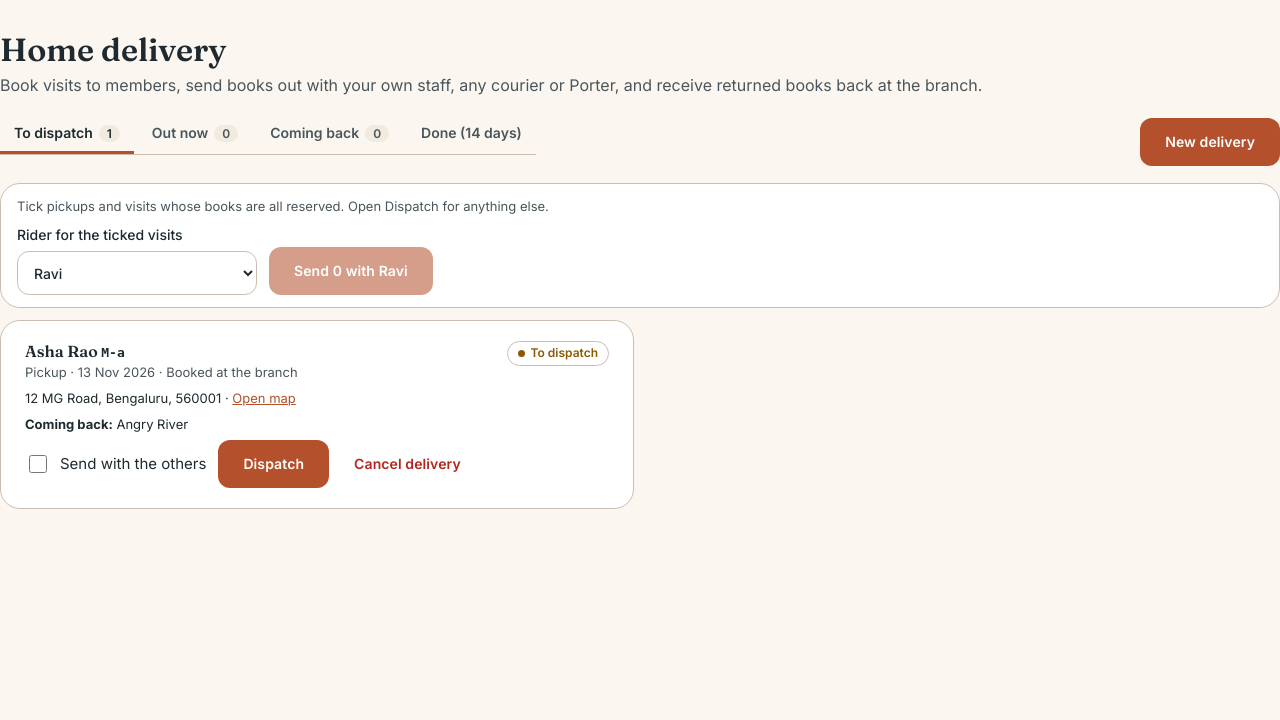
Scenario: dispatching › opens a pickup at once with no read, starts with the rider used last, and keeps the tab when the last visit goes
Click the button "Dispatch" at (274, 464), box top-left (218, 440), bottom-right (329, 488)
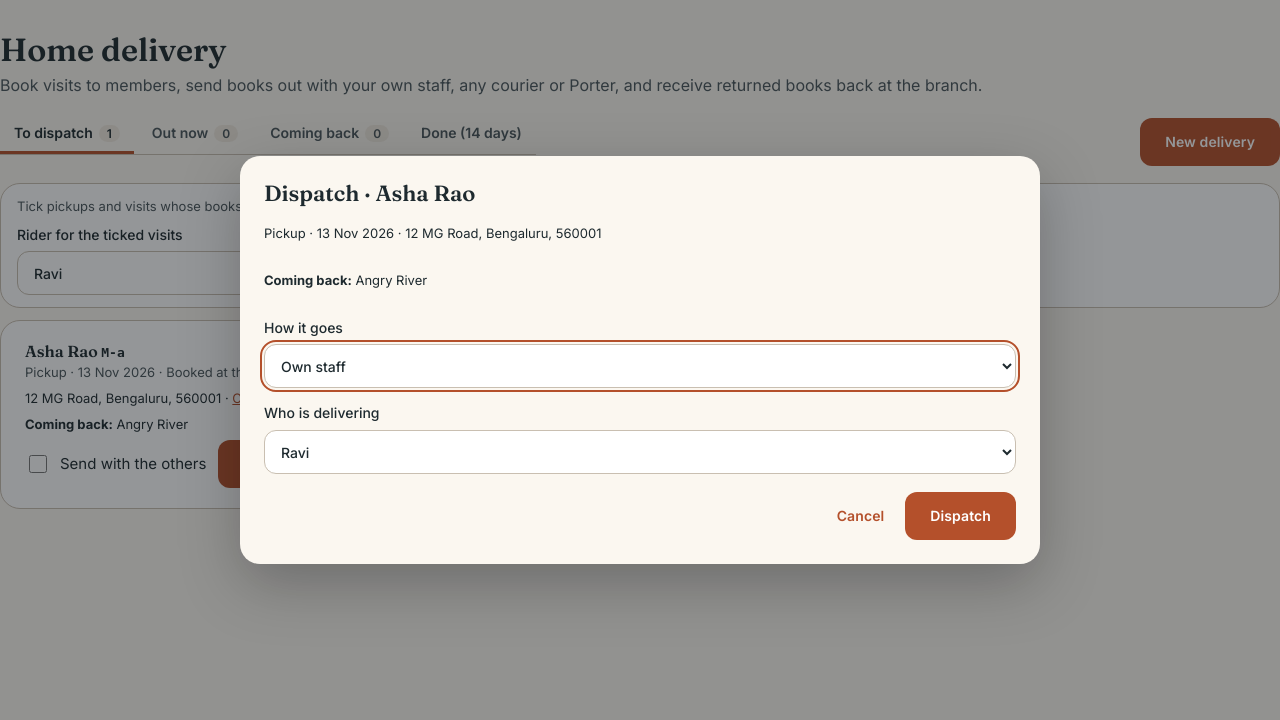
Now the dropdown labelled "Who is delivering" shows "Ravi"
Now the button "Dispatch" is enabled, box top-left (905, 492), bottom-right (1016, 540)
Select "Asha" in the dropdown labelled "Who is delivering" at (640, 452), box top-left (264, 430), bottom-right (1016, 474)
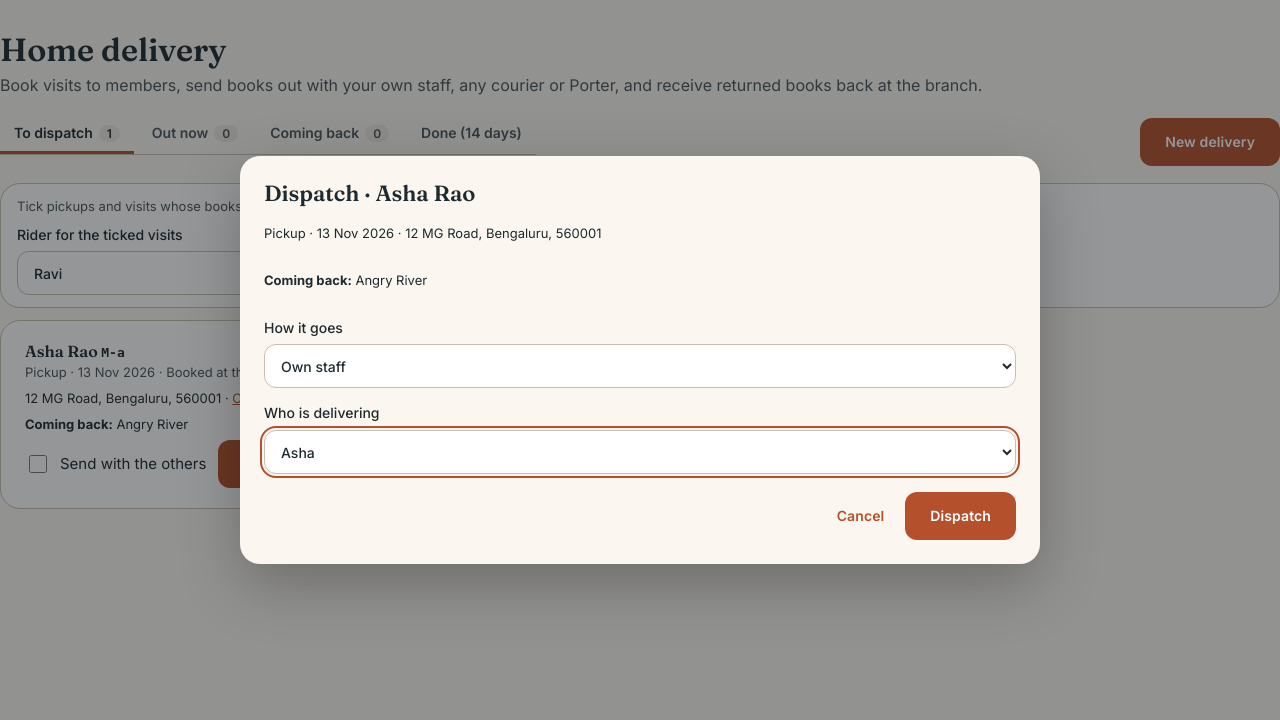
Click the button "Dispatch" at (961, 516), box top-left (905, 492), bottom-right (1016, 540)
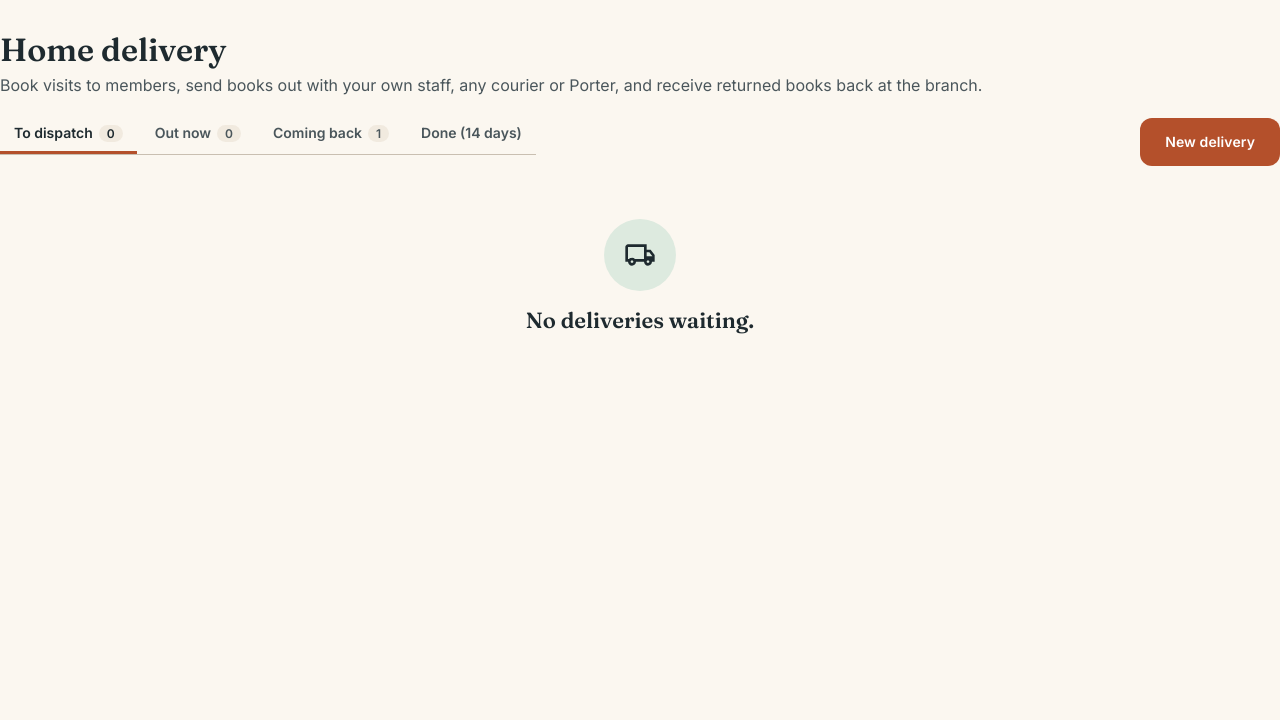
Now the dialog is gone
Now the heading "No deliveries waiting." is shown, box top-left (526, 307), bottom-right (754, 334)
